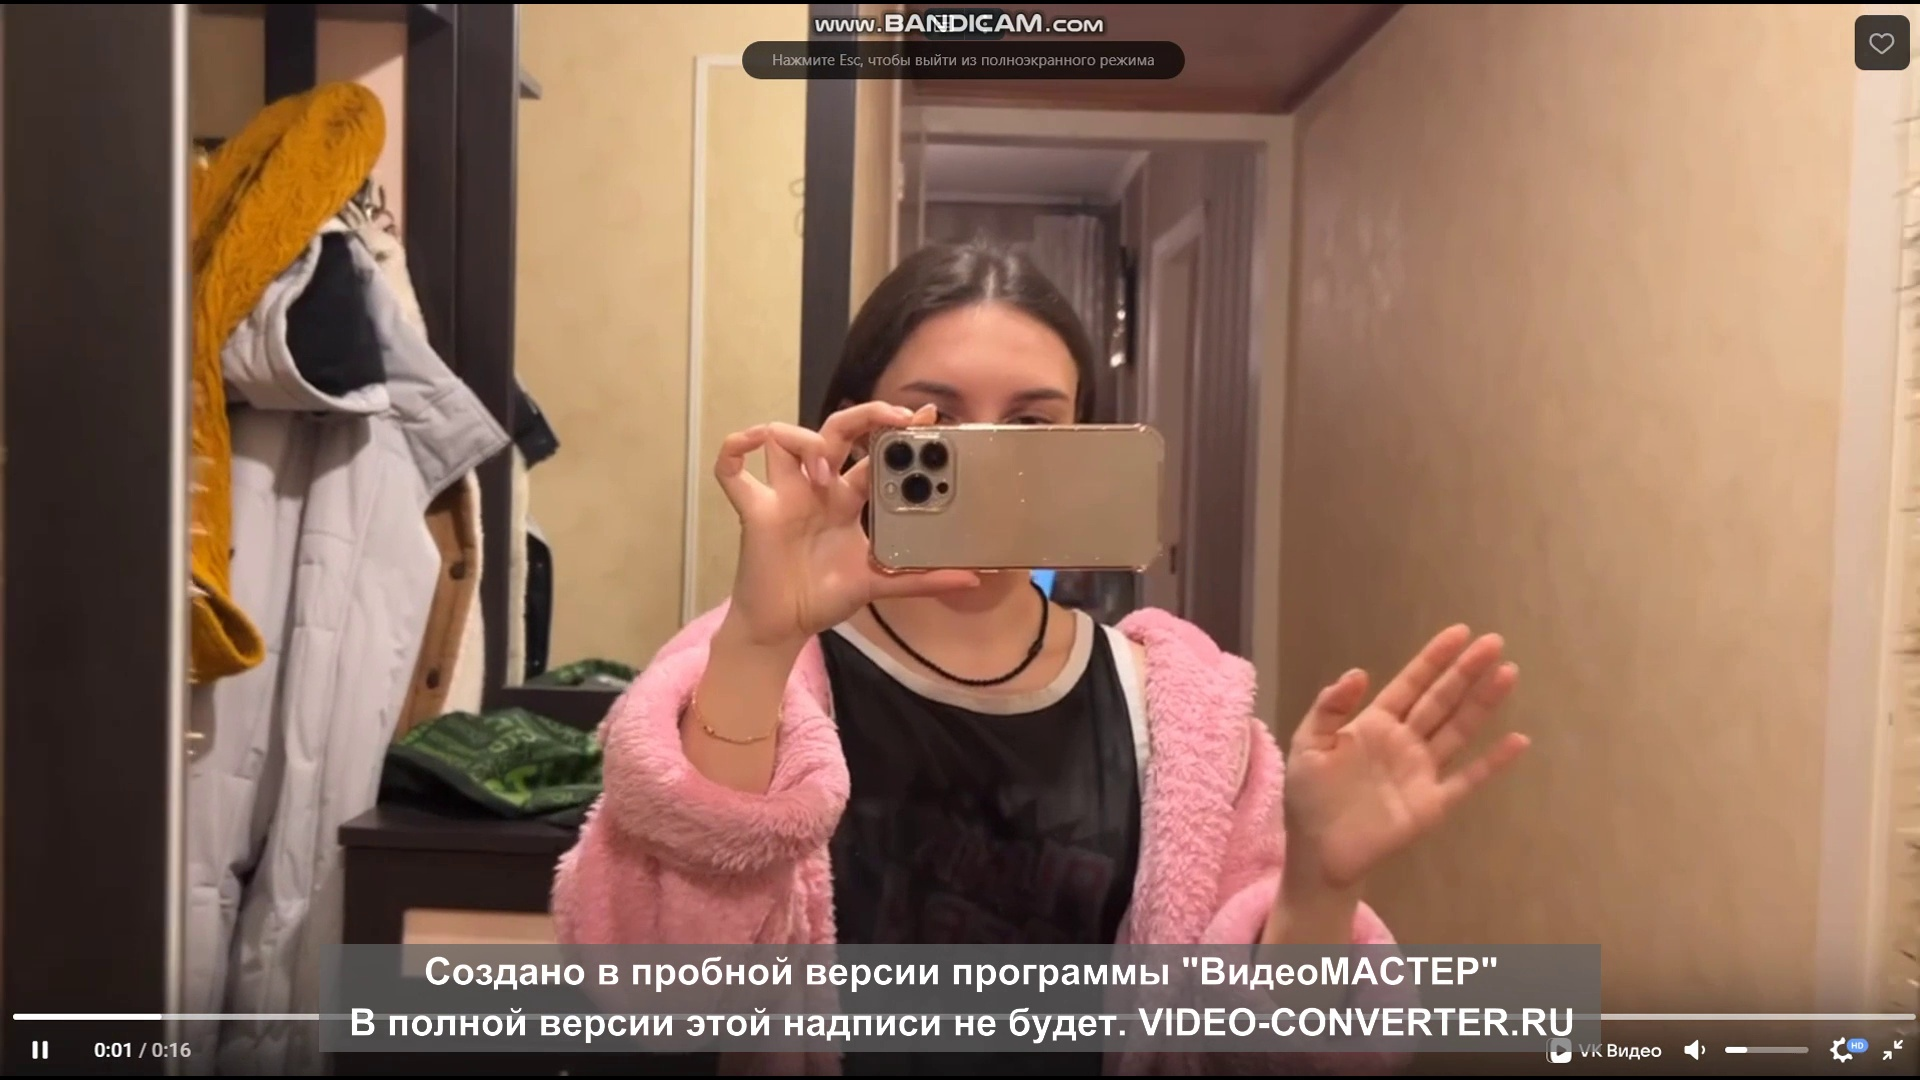Ладонь: (1278, 620, 1527, 882)
